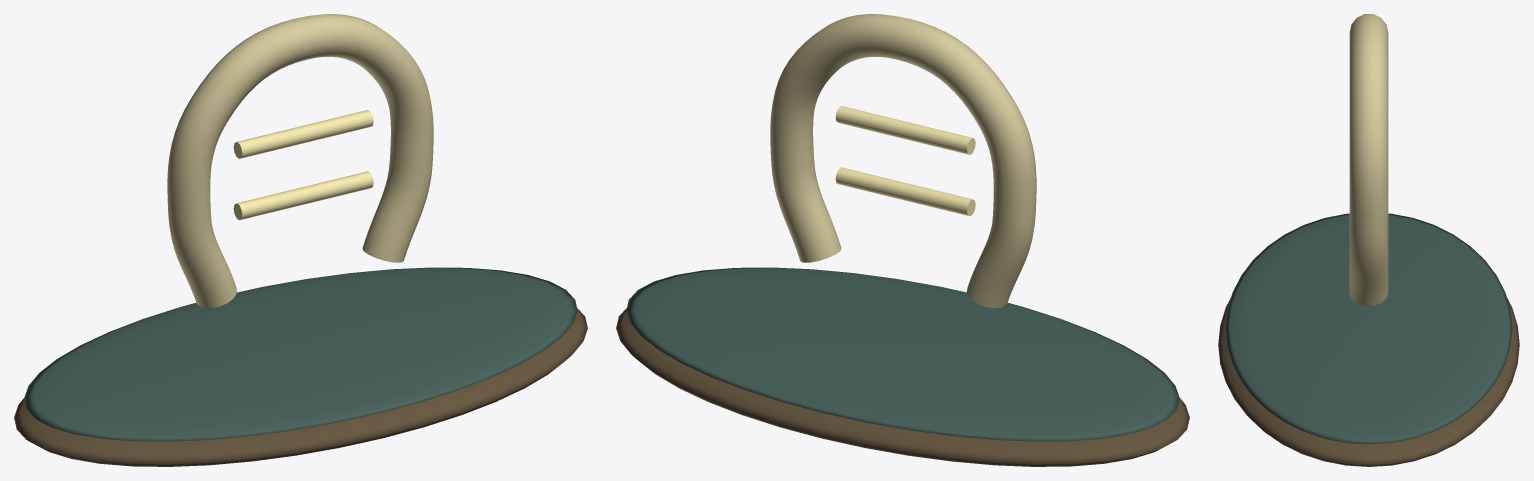
File: moon.glb
The picture shows the model from 3 angles, left to right: view 1: azimuth 30°, elevation 25°; view 2: azimuth 150°, elevation 25°; view 3: azimuth 270°, elevation 25°; orthographic projection. The views are drawn at different scales.
Visible parts, largest first — view 1: moon_surface_01, moon_surface_02, moon_surface_00, moon_surface_03; view 2: moon_surface_01, moon_surface_02, moon_surface_00, moon_surface_03; view 3: moon_surface_01, moon_surface_02, moon_surface_00.
Part boxes in pixels (<box>): moon_surface_01: <box>24,267,577,441</box>; moon_surface_02: <box>167,14,433,308</box>; moon_surface_00: <box>14,308,587,466</box>; moon_surface_03: <box>233,110,373,220</box>; moon_surface_01: <box>626,267,1179,441</box>; moon_surface_02: <box>770,14,1036,308</box>; moon_surface_00: <box>616,308,1189,466</box>; moon_surface_03: <box>835,106,975,216</box>; moon_surface_01: <box>1225,213,1512,444</box>; moon_surface_02: <box>1349,14,1388,305</box>; moon_surface_00: <box>1218,298,1519,466</box>.
Size of the model in its own units: 4.68 by 3.08 by 2.48.
